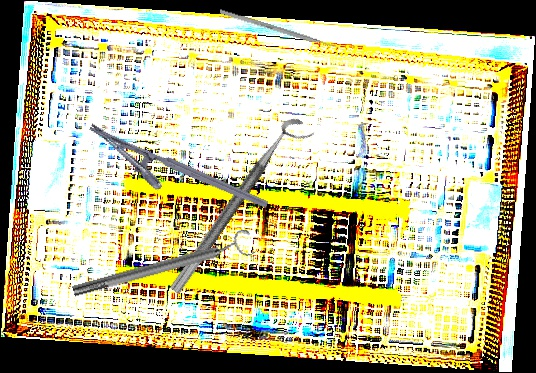Fixation Ring: (168, 112, 316, 306), (69, 227, 256, 305)
Needle Holder: (78, 122, 269, 234)
Pusher: (219, 9, 345, 52)
